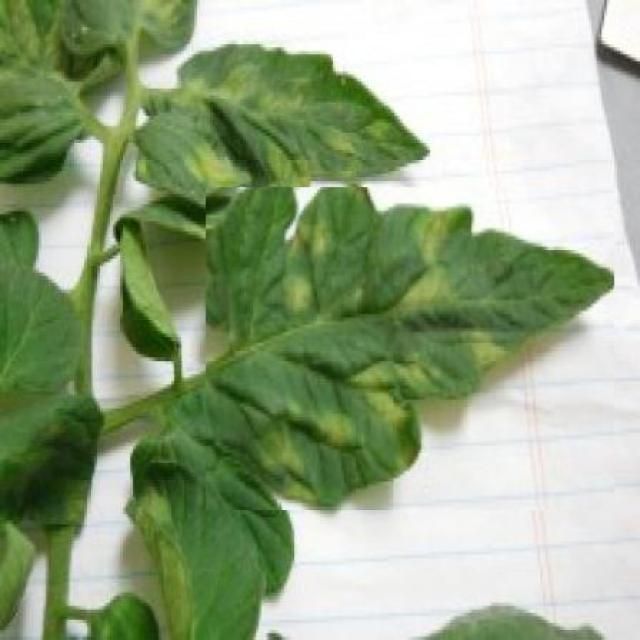Leaf Mold: (205, 187, 615, 510), (132, 45, 431, 209)
